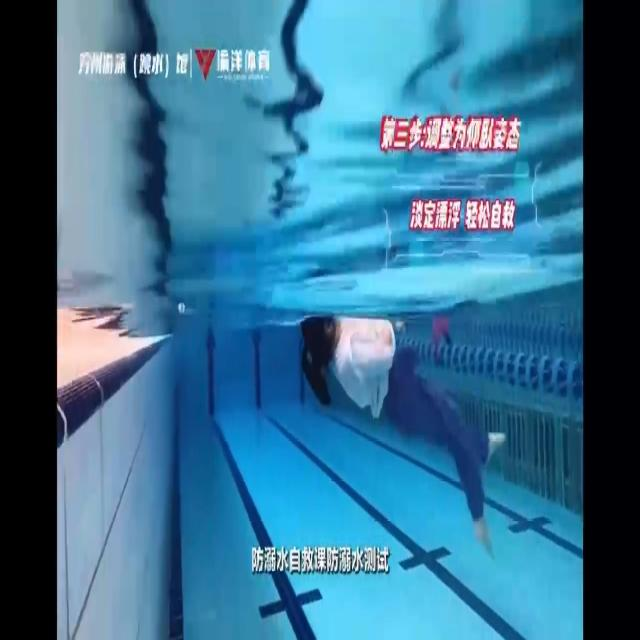Drowning: (300, 316, 505, 554)
